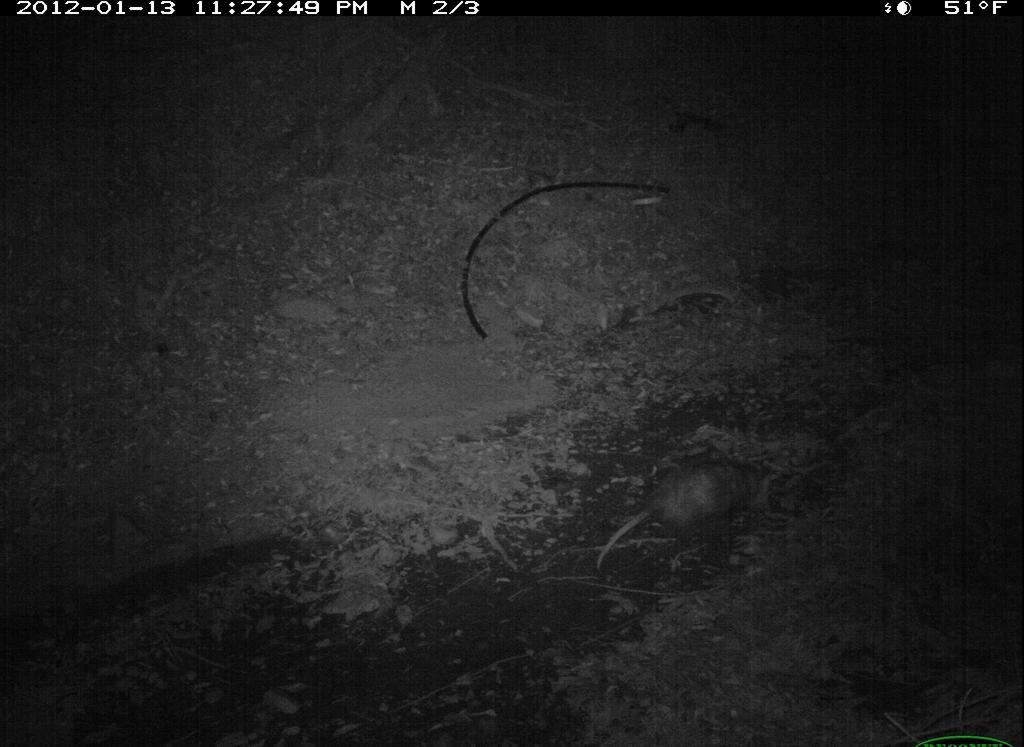opossum: (592, 446, 833, 585)
